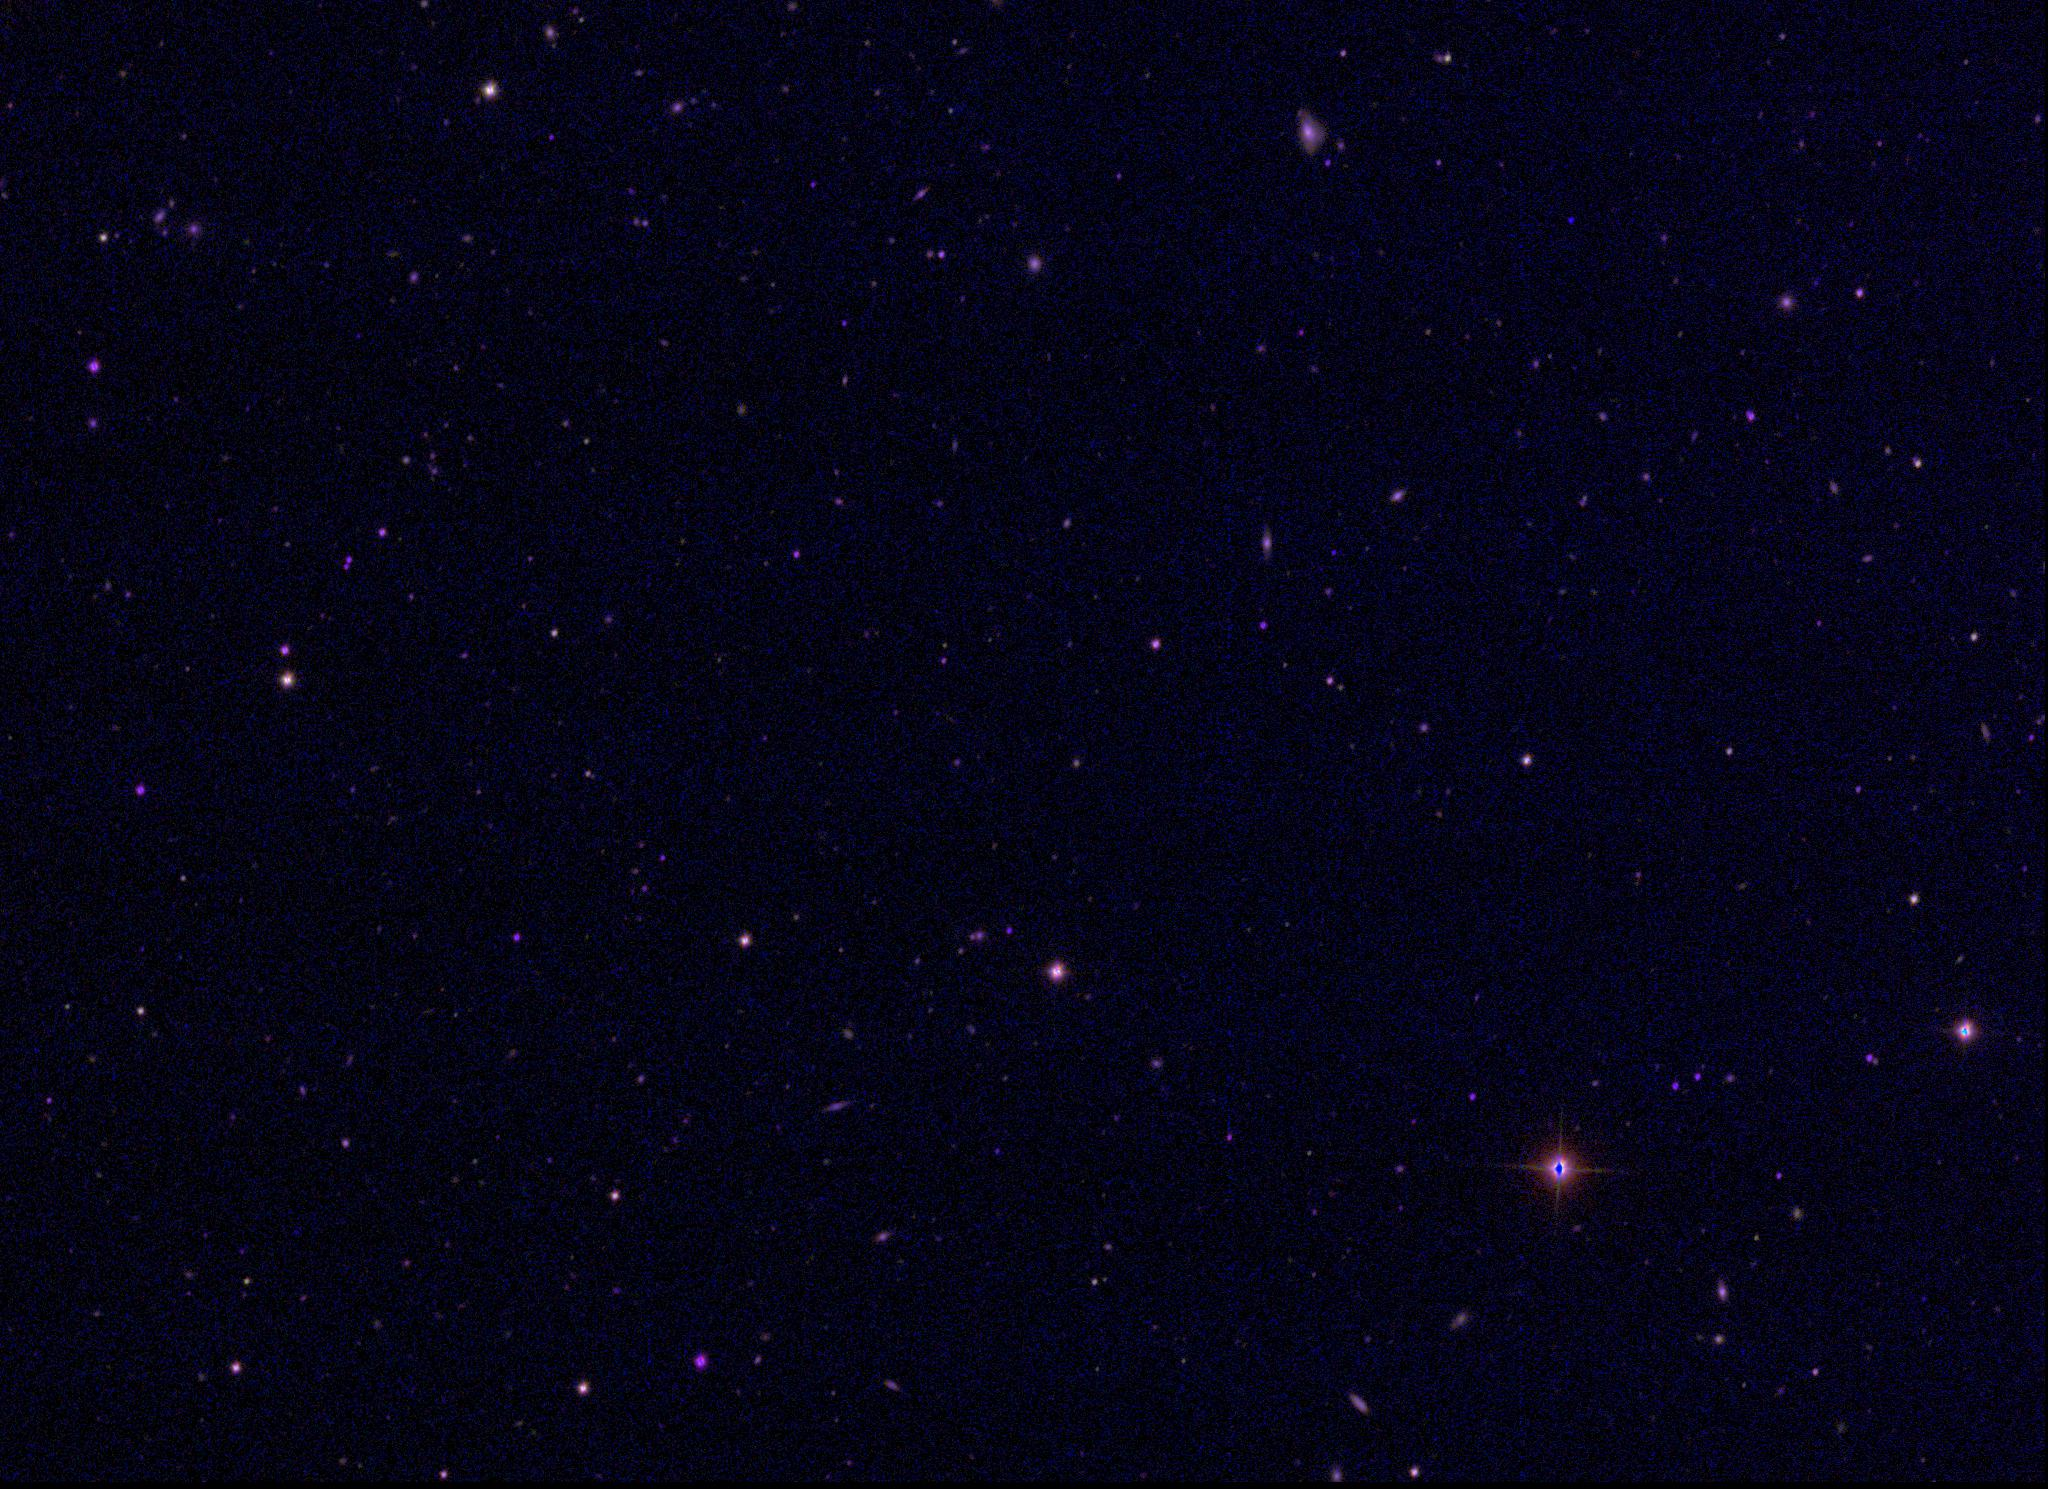L: (1565, 212, 1577, 226)
